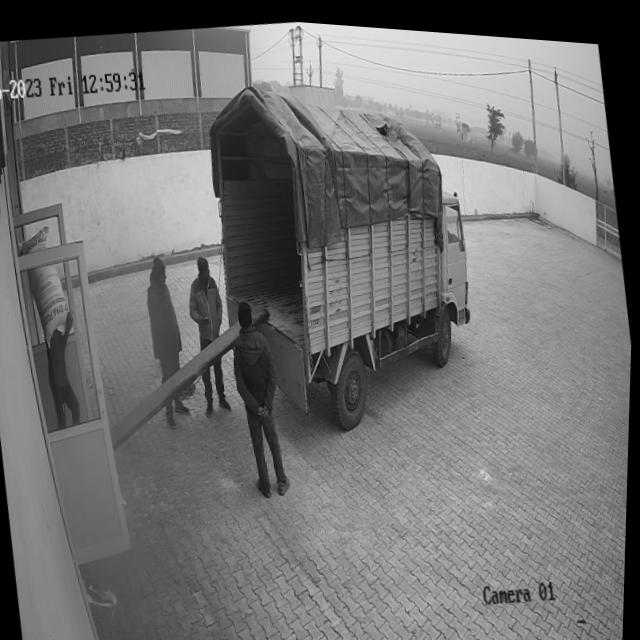sack: (15, 222, 76, 347)
